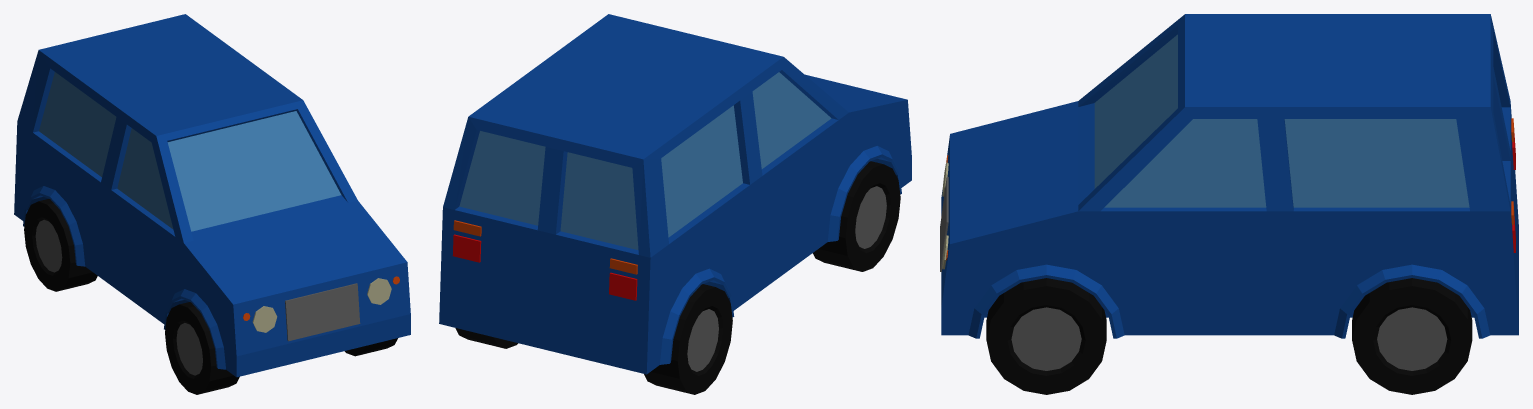
Rendered from car-microtransport-blue.obj.
The picture shows the model from 3 angles, left to right: view 1: azimuth 30°, elevation 25°; view 2: azimuth 150°, elevation 25°; view 3: azimuth 270°, elevation 25°; orthographic projection. The views are drawn at different scales.
Visible parts, largest first — view 1: car-microtransport-blue_Cube.573_carmaterial_blue, car-microtransport-blue_Cube.573_windows, car-microtransport-blue_Cube.573_tires, car-microtransport-blue_Cube.573_metal, car-microtransport-blue_Cube.573_lights; view 2: car-microtransport-blue_Cube.573_carmaterial_blue, car-microtransport-blue_Cube.573_windows, car-microtransport-blue_Cube.573_tires, car-microtransport-blue_Cube.573_metal, car-microtransport-blue_Cube.573_lights.red, car-microtransport-blue_Cube.573_lights.orange; view 3: car-microtransport-blue_Cube.573_carmaterial_blue, car-microtransport-blue_Cube.573_windows, car-microtransport-blue_Cube.573_tires, car-microtransport-blue_Cube.573_metal.
Boxes of the visible parts, x1,y1,x2,y2 form: car-microtransport-blue_Cube.573_carmaterial_blue: [14, 14, 410, 377]; car-microtransport-blue_Cube.573_windows: [39, 72, 341, 231]; car-microtransport-blue_Cube.573_tires: [24, 199, 397, 394]; car-microtransport-blue_Cube.573_metal: [35, 219, 360, 375]; car-microtransport-blue_Cube.573_lights: [252, 278, 391, 332]; car-microtransport-blue_Cube.573_carmaterial_blue: [439, 14, 911, 374]; car-microtransport-blue_Cube.573_windows: [459, 72, 831, 249]; car-microtransport-blue_Cube.573_tires: [455, 161, 900, 394]; car-microtransport-blue_Cube.573_metal: [687, 186, 886, 371]; car-microtransport-blue_Cube.573_lights.red: [452, 234, 637, 300]; car-microtransport-blue_Cube.573_lights.orange: [453, 220, 637, 274]; car-microtransport-blue_Cube.573_carmaterial_blue: [941, 14, 1518, 338]; car-microtransport-blue_Cube.573_windows: [1094, 34, 1469, 207]; car-microtransport-blue_Cube.573_tires: [986, 278, 1472, 394]; car-microtransport-blue_Cube.573_metal: [940, 177, 1447, 370].
Size of the model in its own units: 0.8967 by 0.9513 by 1.82.
